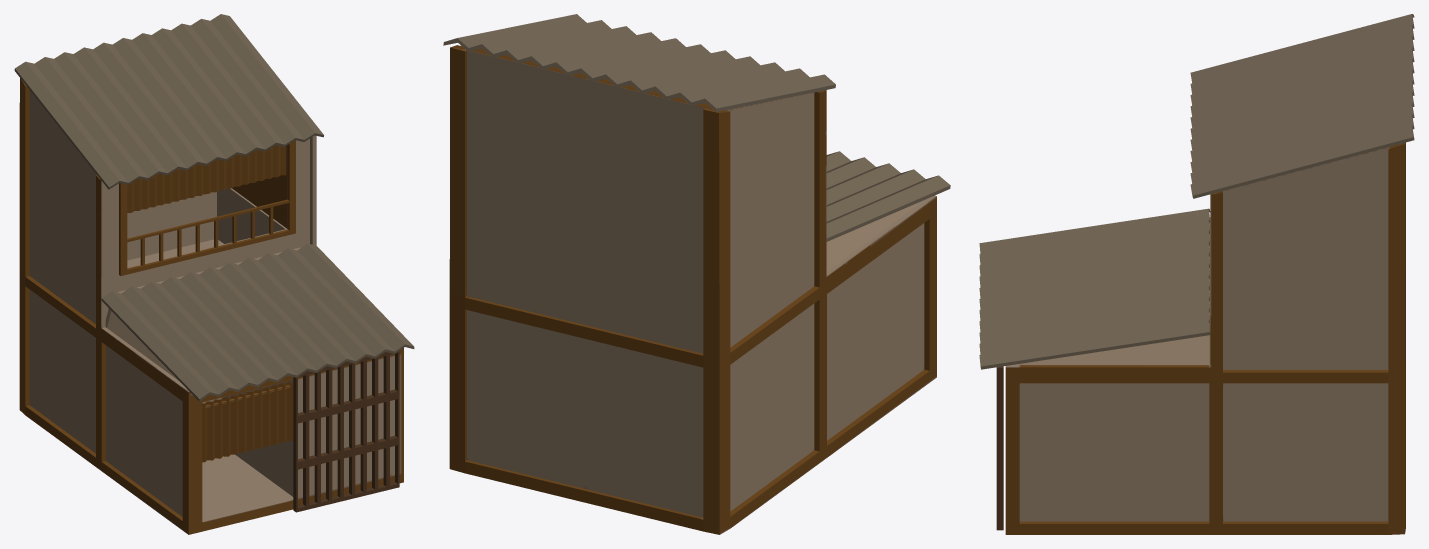
File: HOUSE_F.fbx
3 renders of one model, left to right at view 1: azimuth 30°, elevation 25°; view 2: azimuth 150°, elevation 25°; view 3: azimuth 270°, elevation 25°, orthographic. The views are drawn at different scales.
Parts seen in each view (by area): view 1: House; view 2: House; view 3: House.
Part boxes in pixels (x1,y1,x2,y2): House: (14,14,414,534); House: (443,14,950,534); House: (979,14,1414,534).
Size of the model in its own units: 4820 by 7362 by 7195.
1 material, 1 textured.
